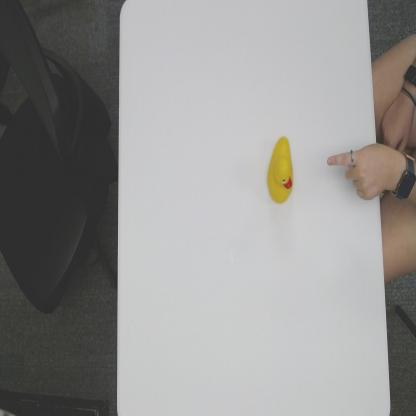Duck: (264, 131, 296, 209)
Hand: (325, 140, 396, 200)
